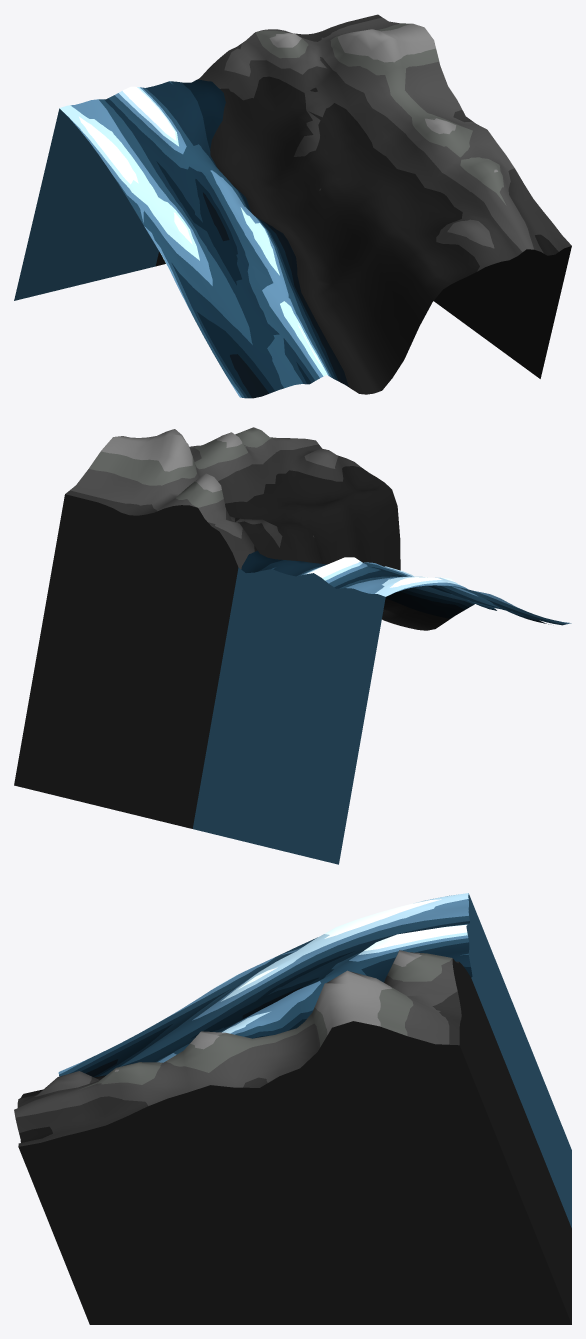
The model's file is torm_fall_tr_153.glb.
The picture shows the model from 3 angles, top to bottom: view 1: azimuth 30°, elevation 25°; view 2: azimuth 150°, elevation 25°; view 3: azimuth 270°, elevation 25°; orthographic projection. The views are drawn at different scales.
Parts seen in each view (by area): view 1: torm_fall_tr_153; view 2: torm_fall_tr_153; view 3: torm_fall_tr_153.
Boxes of the visible parts, box(x1,y1,x2,y2) form: torm_fall_tr_153: box(14, 14, 571, 398); torm_fall_tr_153: box(14, 427, 571, 864); torm_fall_tr_153: box(14, 893, 571, 1324).
Size of the model in its own units: 24 by 20.47 by 32.41.
